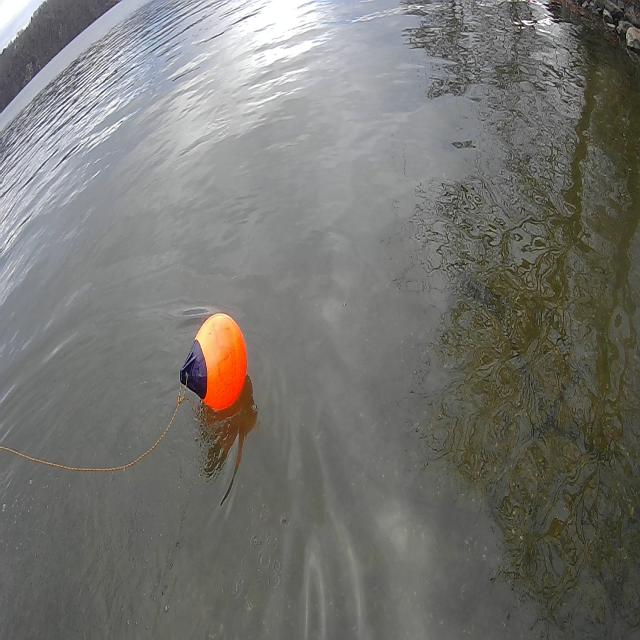Buoy: (192, 309, 250, 415)
